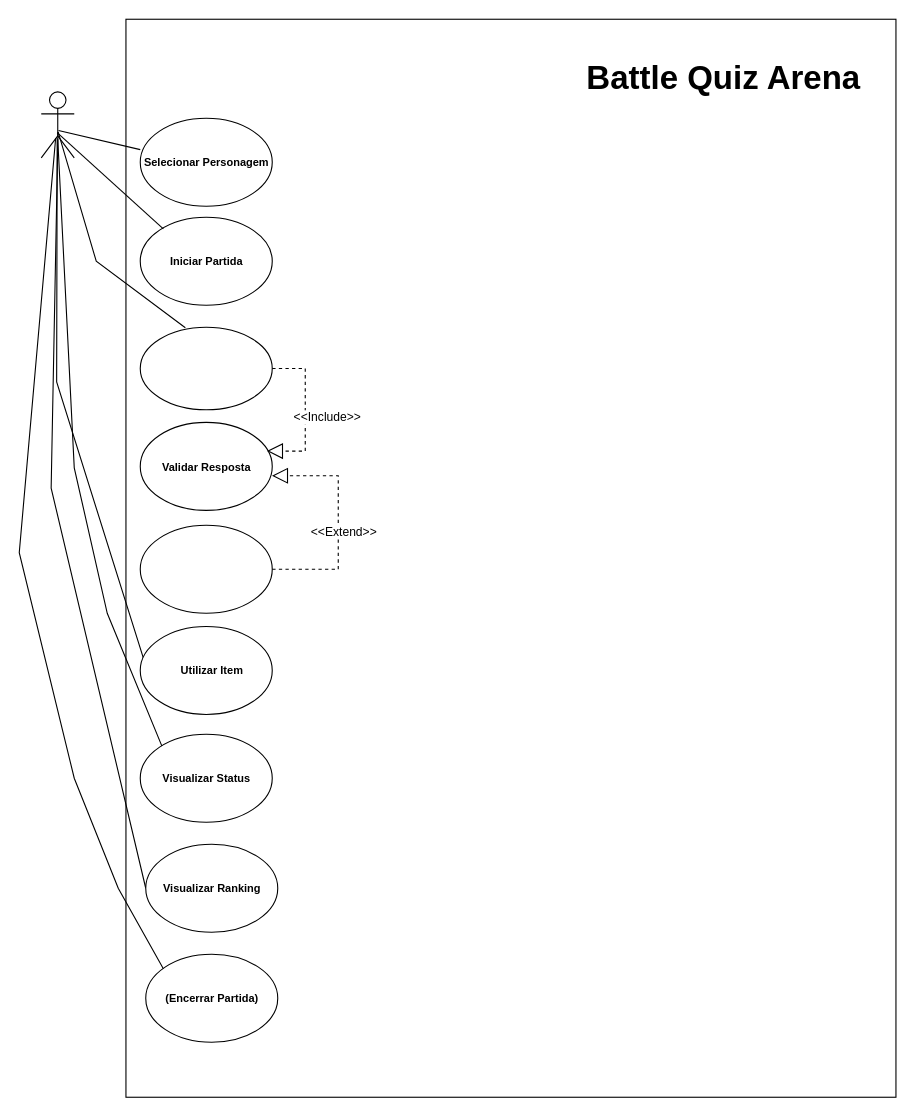
Image size: 915x1117. Some labels were removed from this diagram. Here are the shapes that lost their labels. From the top down, the centre of each, then its label:
At (57,124): "Jogador".
At (205,368): "Responder Pergunta".
At (205,568): "Atacar Inimigo".
